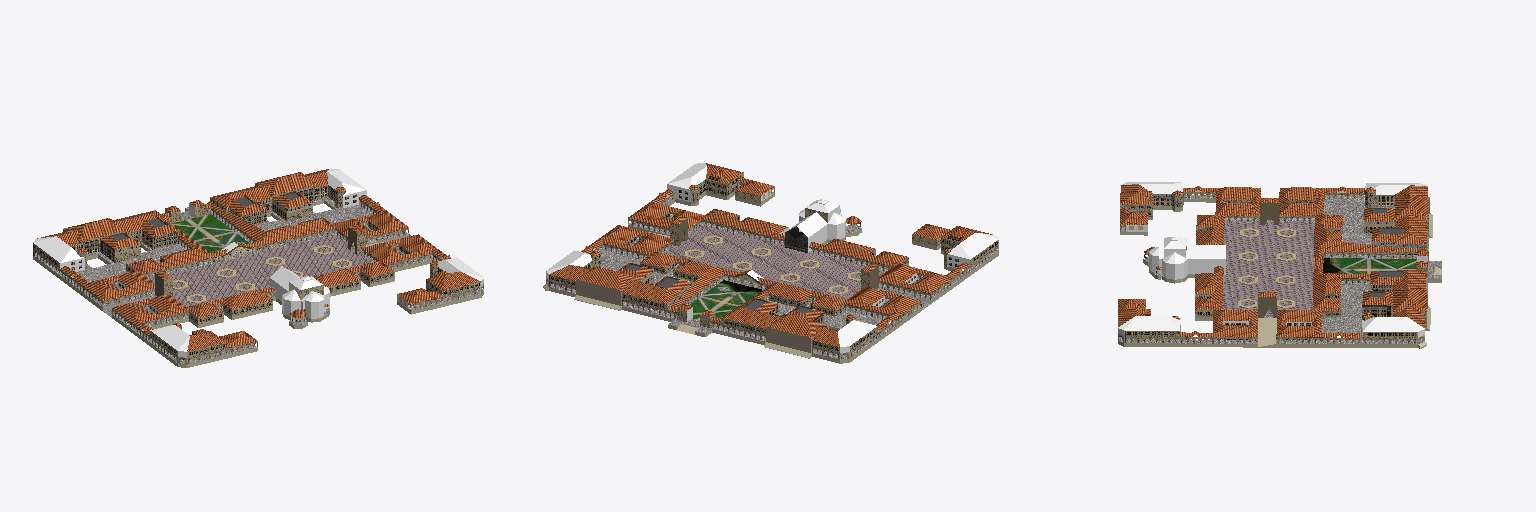
3 renders of one model, left to right at view 1: azimuth 30°, elevation 25°; view 2: azimuth 150°, elevation 25°; view 3: azimuth 270°, elevation 25°, orthographic.
Visible parts, largest first — view 1: Mesh567 Base1 Model, Mesh292 front_Right_1_1 Model, Mesh460 front_Right_1_2 Model, Mesh565 QuadPart2_2 Model, Mesh104 QuadPart2_1 Model, Mesh568 Model; view 2: Mesh567 Base1 Model, Mesh460 front_Right_1_2 Model, Mesh292 front_Right_1_1 Model, Mesh565 QuadPart2_2 Model, Mesh104 QuadPart2_1 Model, Mesh568 Model; view 3: Mesh567 Base1 Model, Mesh292 front_Right_1_1 Model, Mesh460 front_Right_1_2 Model, Mesh104 QuadPart2_1 Model, Mesh565 QuadPart2_2 Model, Mesh568 Model.
Boxes of the visible parts, x1=… form: Mesh567 Base1 Model: x1=33, y1=197, x2=483, y2=367; Mesh292 front_Right_1_1 Model: x1=33, y1=210, x2=214, y2=305; Mesh460 front_Right_1_2 Model: x1=207, y1=168, x2=408, y2=251; Mesh565 QuadPart2_2 Model: x1=112, y1=290, x2=272, y2=363; Mesh104 QuadPart2_1 Model: x1=314, y1=234, x2=483, y2=310; Mesh568 Model: x1=259, y1=266, x2=329, y2=318; Mesh567 Base1 Model: x1=543, y1=184, x2=998, y2=363; Mesh460 front_Right_1_2 Model: x1=546, y1=225, x2=726, y2=317; Mesh292 front_Right_1_1 Model: x1=717, y1=282, x2=921, y2=359; Mesh565 QuadPart2_2 Model: x1=820, y1=224, x2=998, y2=299; Mesh104 QuadPart2_1 Model: x1=628, y1=163, x2=788, y2=242; Mesh568 Model: x1=785, y1=199, x2=861, y2=254; Mesh567 Base1 Model: x1=1118, y1=195, x2=1441, y2=348; Mesh292 front_Right_1_1 Model: x1=1279, y1=183, x2=1429, y2=258; Mesh460 front_Right_1_2 Model: x1=1276, y1=270, x2=1427, y2=343; Mesh104 QuadPart2_1 Model: x1=1118, y1=273, x2=1257, y2=343; Mesh565 QuadPart2_2 Model: x1=1120, y1=182, x2=1260, y2=244; Mesh568 Model: x1=1144, y1=237, x2=1225, y2=279.
Bounding box in the file's own units: 11175 × 1238 × 10162.
Materials: 25 (16 with a texture image).